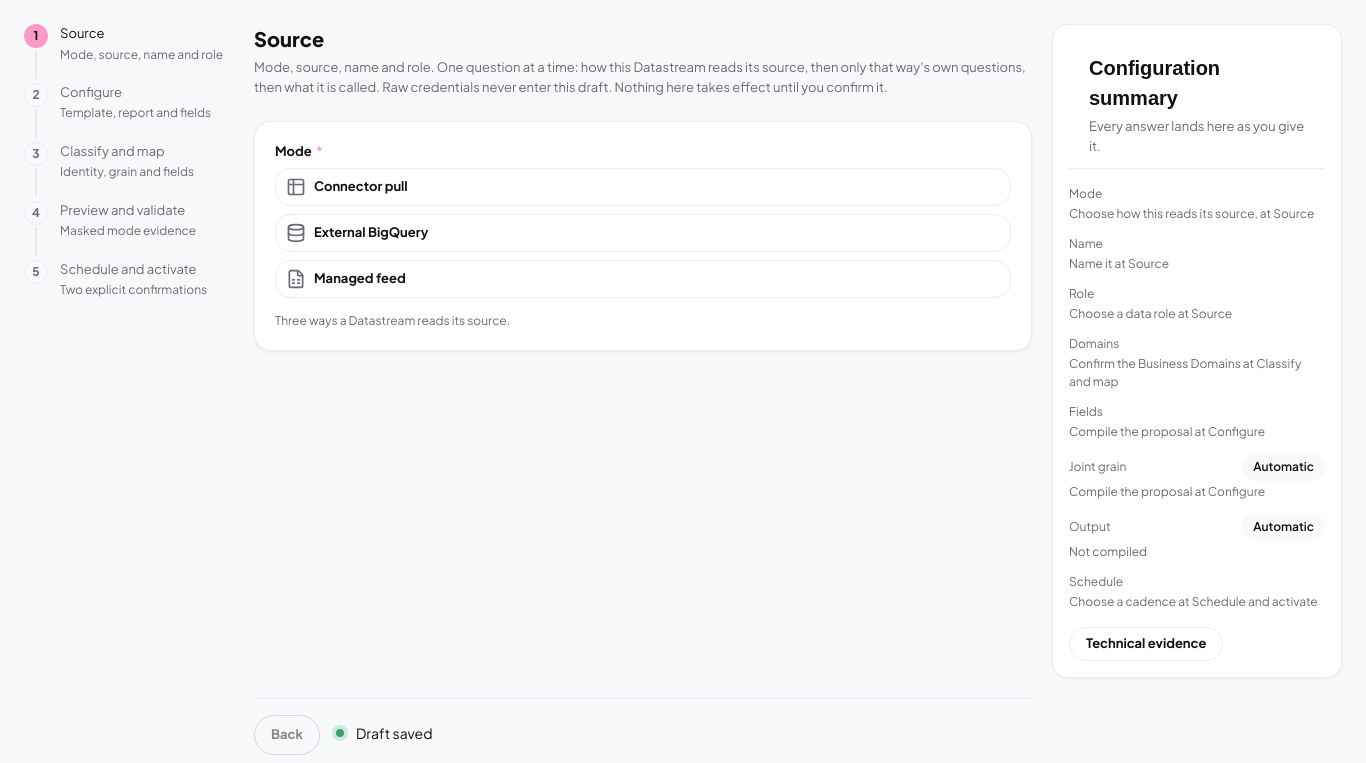
Test case: names the platform administrator when no verified domain exists
The width and height of the screenshot is (1366, 763).
Click the radio button labelled "Managed feed" at (360, 278), box top-left (275, 260), bottom-right (1011, 298)
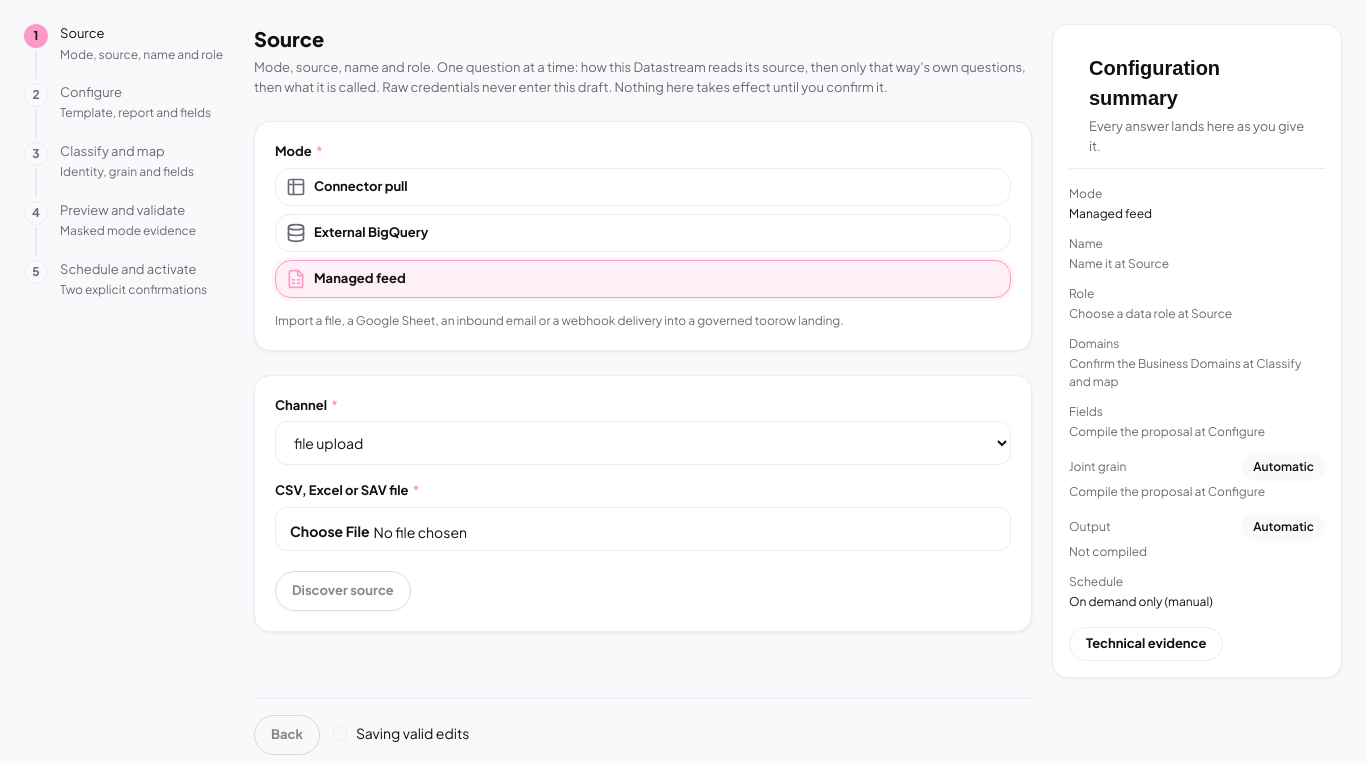
Select "inbound email — setup required" in the dropdown labelled "Channel*" at (643, 443), box top-left (275, 421), bottom-right (1011, 465)
(page scrolled)
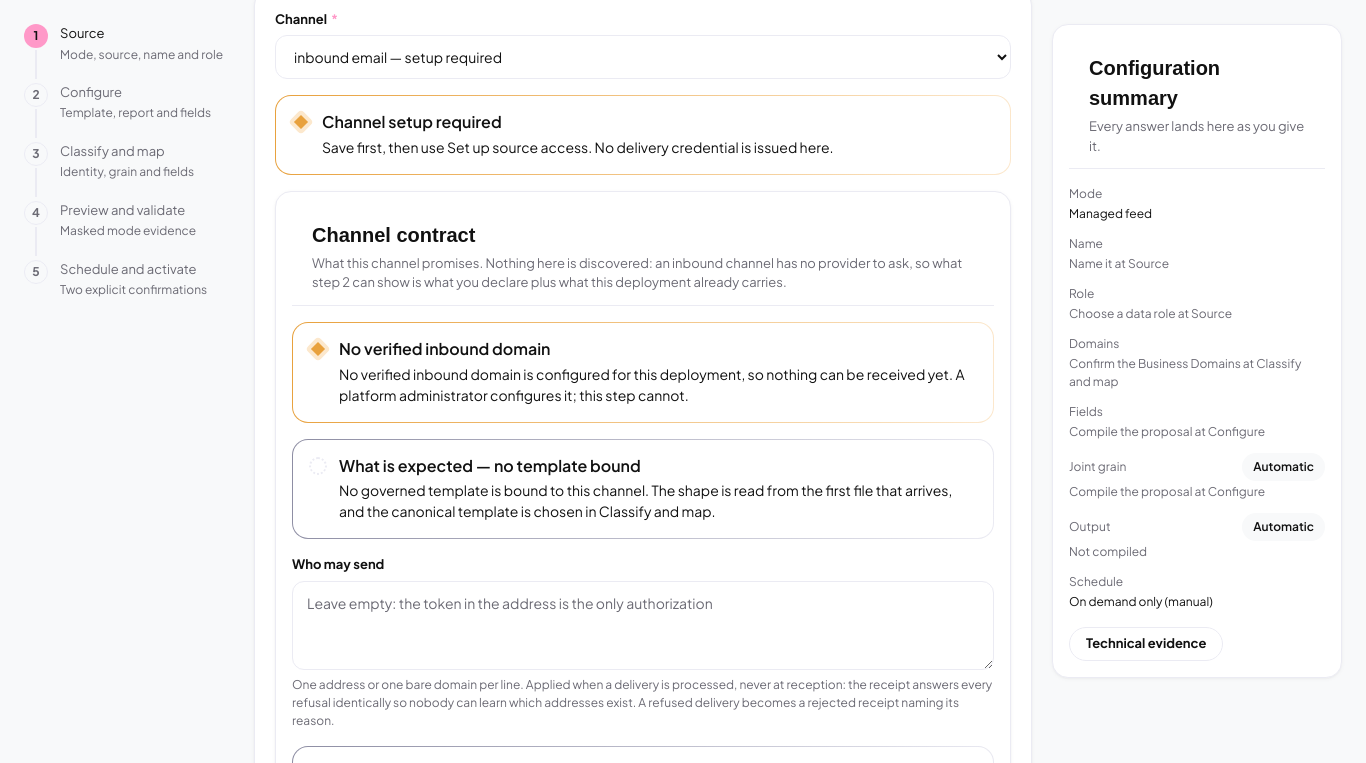
Now the text "A platform administrator configures it; this step cannot" is shown, box top-left (339, 365), bottom-right (965, 404)
